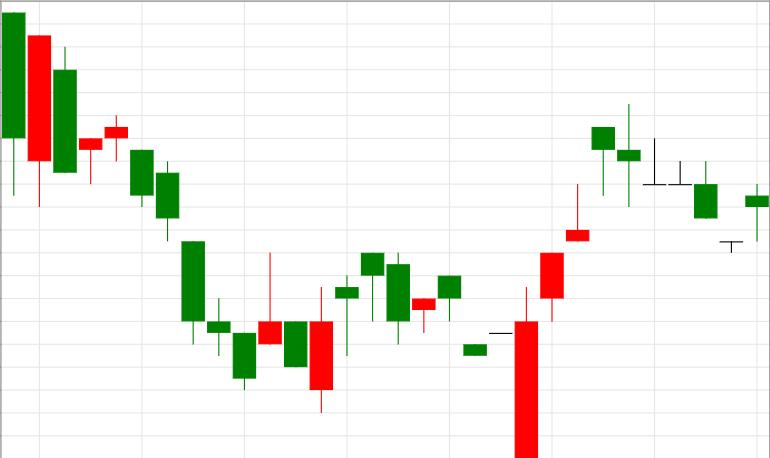bullish_engulfing_rise: (131, 150, 333, 412)
hanging_man_fall: (515, 128, 614, 457)
